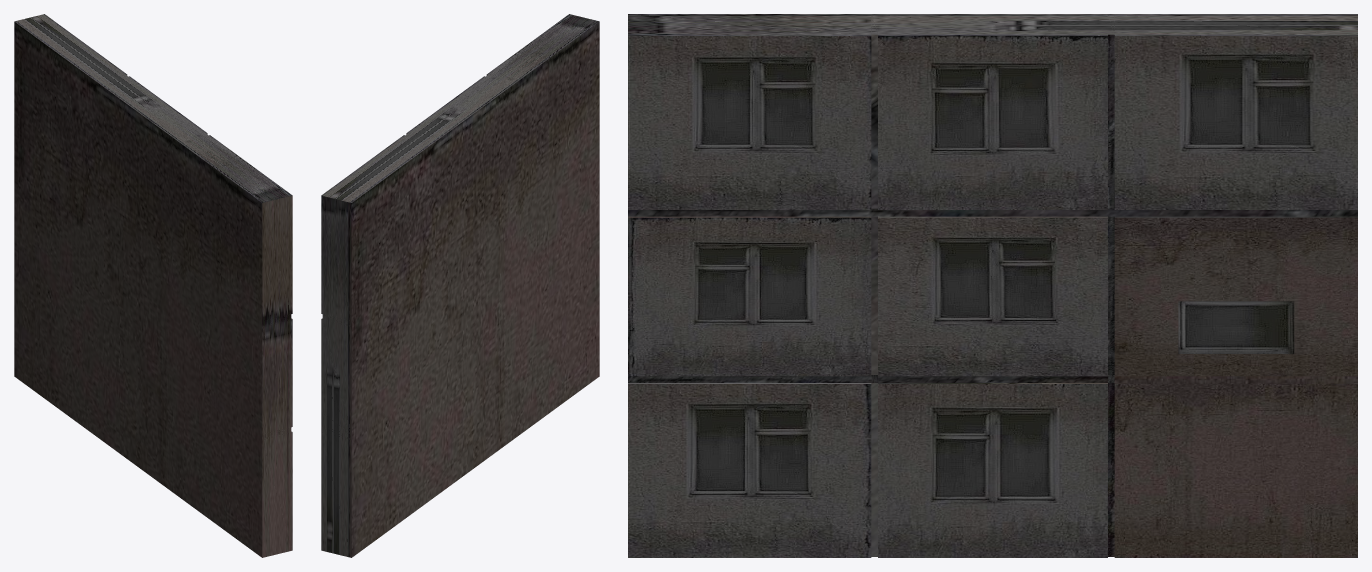
The model's file is panelka.fbx.
3 renders of one model, left to right at view 1: azimuth 30°, elevation 25°; view 2: azimuth 150°, elevation 25°; view 3: azimuth 270°, elevation 25°, orthographic. The views are drawn at different scales.
Visible parts, largest first — view 1: Cube.040; view 2: Cube.040; view 3: Cube.040.
Boxes of the visible parts, <box> form: Cube.040: <box>14,14,292,557</box>; Cube.040: <box>321,14,599,557</box>; Cube.040: <box>628,14,1357,557</box>.
Size of the model in its own units: 85.21 by 948 by 1201.
